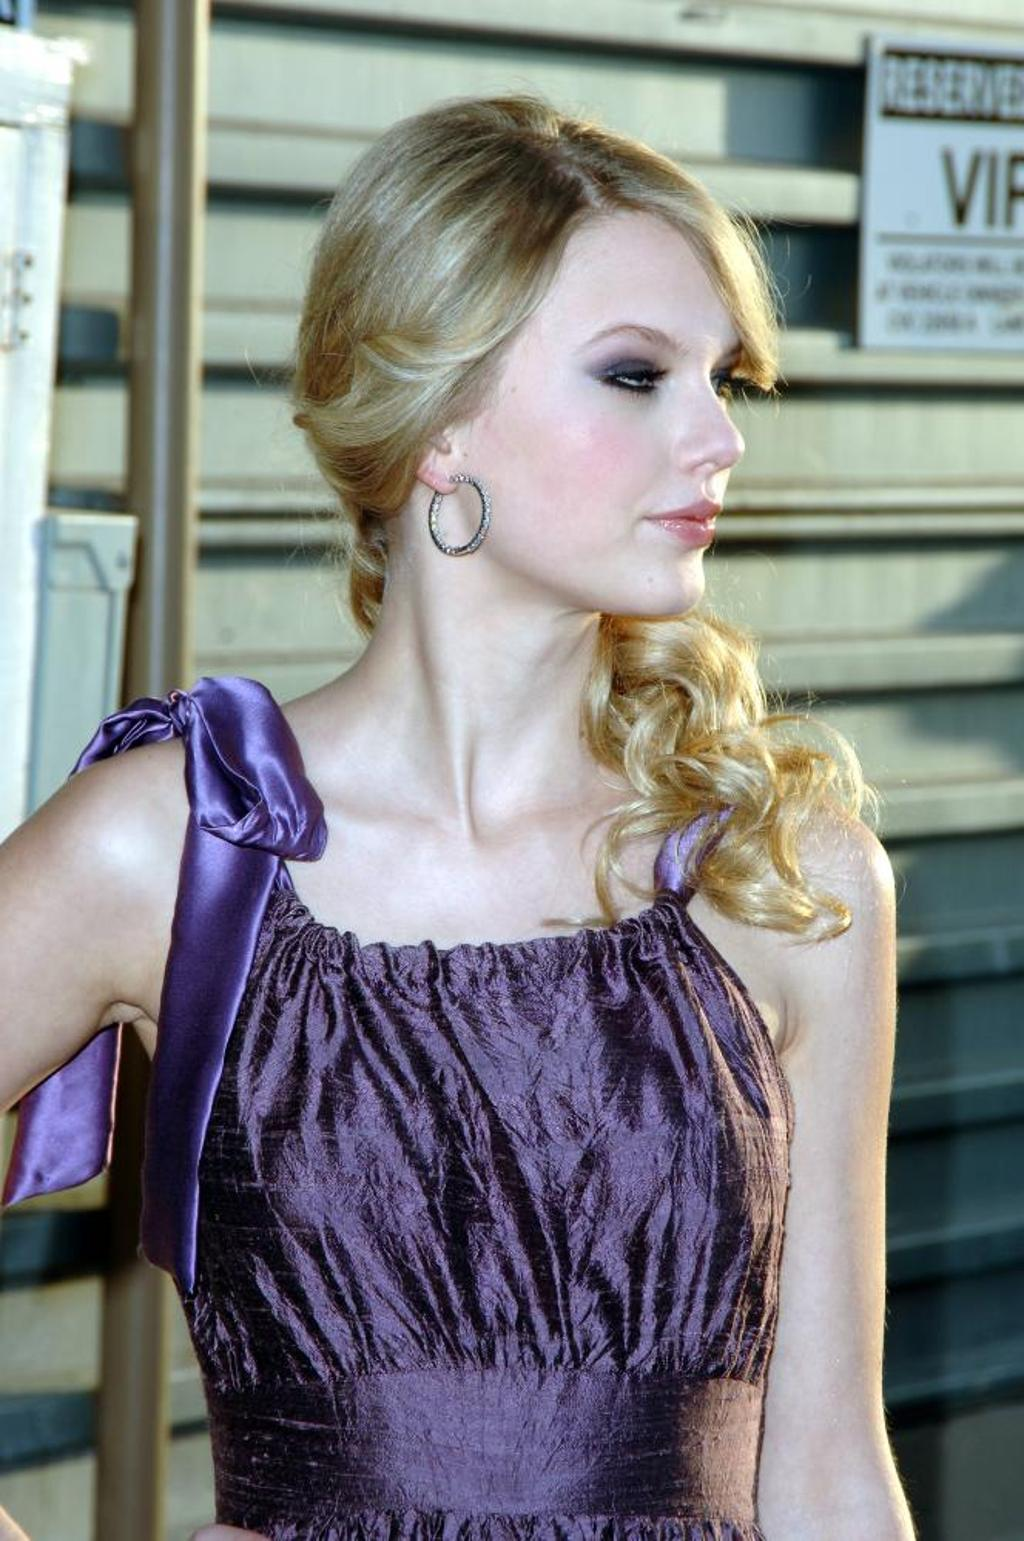face: (461, 187, 741, 615)
